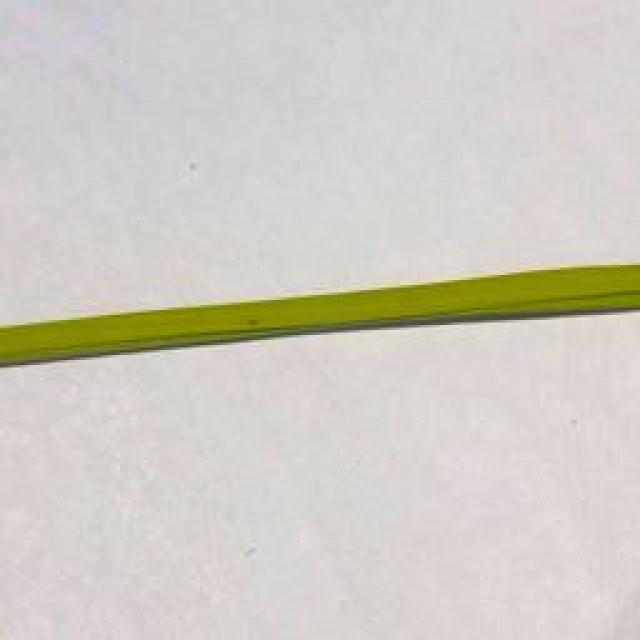Brown_Spot: (244, 307, 260, 330)
